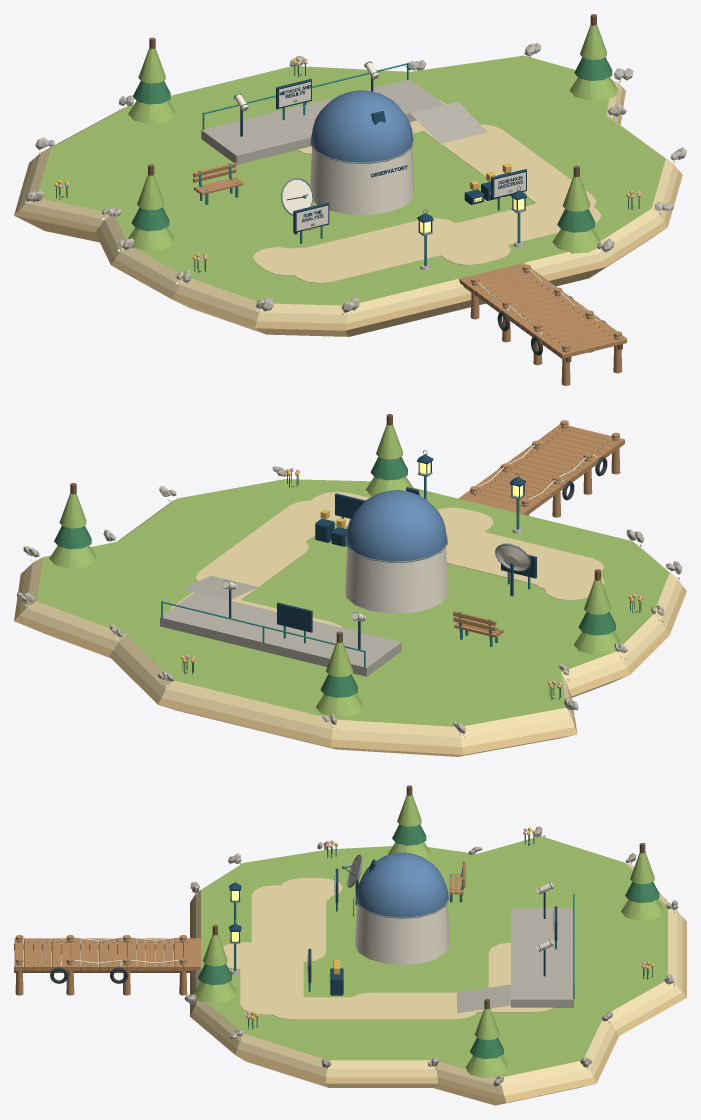
File: research.glb
3 renders of one model, top to bottom at view 1: azimuth 30°, elevation 25°; view 2: azimuth 150°, elevation 25°; view 3: azimuth 270°, elevation 25°, orthographic. The views are drawn at different scales.
Visible parts, largest first — view 1: static_grass, static_sand, static_stone, static_wood, static_sandEdge, static_ivory, occluder_research_dome_blue, occluder_research_tree_16_grass, occluder_research_tree_12_grass, occluder_research_tree_8_grass, occluder_research_tree_4_grass, static_navy (+9 smaller); view 2: static_grass, static_sand, static_stone, static_wood, static_sandEdge, static_ivory, occluder_research_dome_blue, occluder_research_tree_12_grass, occluder_research_tree_8_grass, occluder_research_tree_4_grass, static_navy, occluder_research_tree_16_grass (+7 smaller); view 3: static_grass, static_sand, static_stone, static_wood, static_sandEdge, static_ivory, occluder_research_dome_blue, occluder_research_tree_12_grass, occluder_research_tree_16_grass, occluder_research_tree_8_grass, occluder_research_tree_4_grass, static_navy (+5 smaller).
Part boxes in pixels (bbox=[...]): static_grass: bbox=[39, 55, 665, 305]; static_sand: bbox=[19, 80, 678, 323]; static_stone: bbox=[25, 43, 686, 312]; static_wood: bbox=[193, 162, 626, 385]; static_sandEdge: bbox=[14, 87, 682, 336]; static_ivory: bbox=[24, 55, 676, 350]; occluder_research_dome_blue: bbox=[311, 90, 412, 162]; occluder_research_tree_16_grass: bbox=[552, 176, 599, 253]; occluder_research_tree_12_grass: bbox=[569, 24, 617, 100]; occluder_research_tree_8_grass: bbox=[128, 48, 175, 123]; occluder_research_tree_4_grass: bbox=[128, 175, 173, 250]; static_navy: bbox=[240, 72, 526, 234]; static_grass: bbox=[37, 479, 669, 726]; static_sand: bbox=[19, 491, 682, 747]; static_stone: bbox=[17, 466, 682, 733]; static_wood: bbox=[453, 420, 624, 637]; static_sandEdge: bbox=[14, 569, 686, 756]; static_ivory: bbox=[24, 424, 679, 736]; occluder_research_dome_blue: bbox=[346, 490, 447, 561]; occluder_research_tree_12_grass: bbox=[49, 493, 95, 568]; occluder_research_tree_8_grass: bbox=[316, 641, 362, 717]; occluder_research_tree_4_grass: bbox=[574, 579, 620, 654]; static_navy: bbox=[229, 454, 525, 649]; occluder_research_tree_16_grass: bbox=[366, 424, 413, 496]; static_grass: bbox=[201, 836, 667, 1077]; static_sand: bbox=[192, 863, 682, 1095]; static_stone: bbox=[184, 826, 678, 1086]; static_wood: bbox=[14, 861, 465, 995]; static_sandEdge: bbox=[190, 891, 686, 1105]; static_ivory: bbox=[16, 835, 675, 1087]; occluder_research_dome_blue: bbox=[356, 852, 448, 917]; occluder_research_tree_12_grass: bbox=[465, 1008, 507, 1077]; occluder_research_tree_16_grass: bbox=[193, 934, 235, 1002]; occluder_research_tree_8_grass: bbox=[621, 852, 663, 920]; occluder_research_tree_4_grass: bbox=[388, 795, 430, 859]; static_navy: bbox=[229, 859, 545, 995].
Size of the model in its own units: 27.11 by 5.78 by 29.8.
